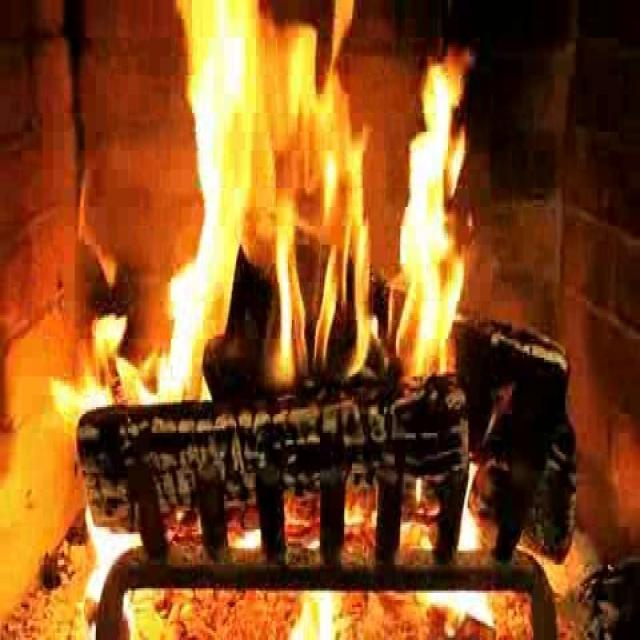Fire: (11, 0, 638, 469)
